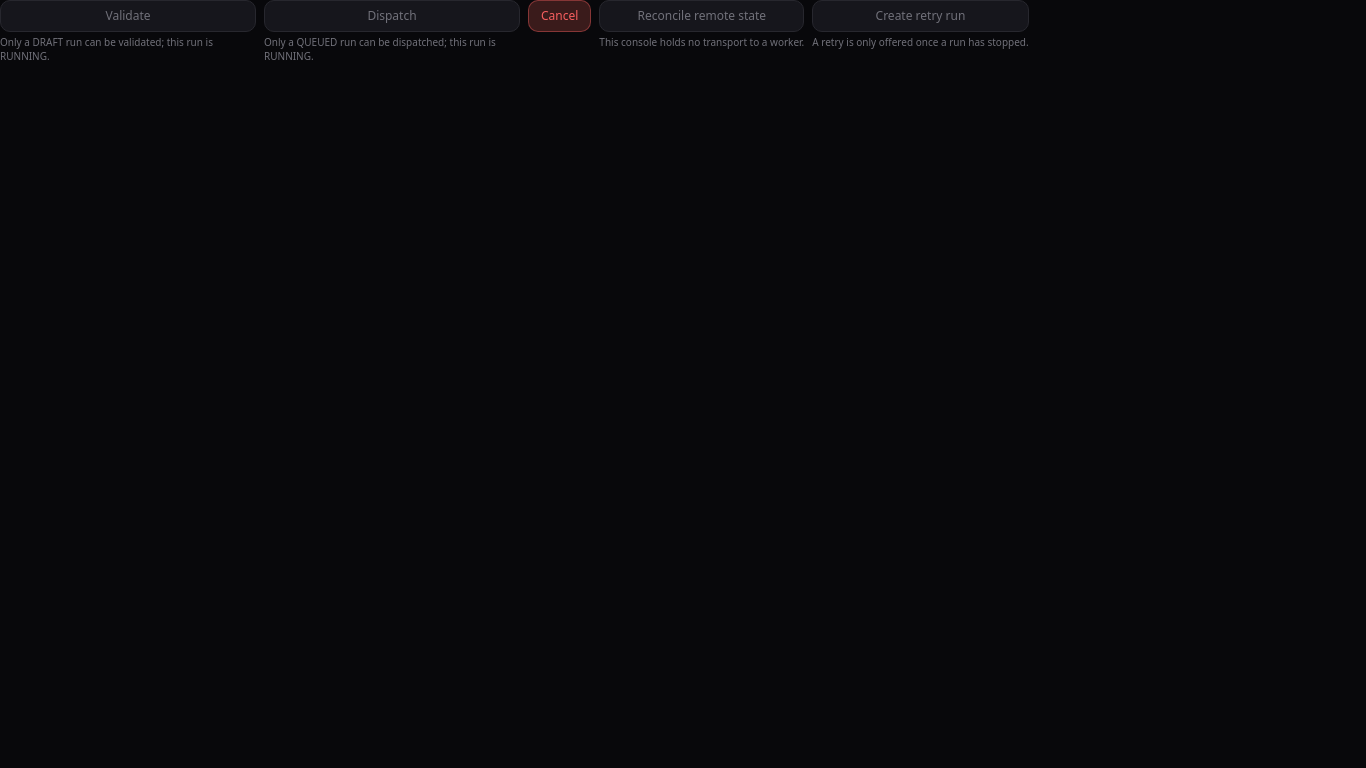
Test: run actions › reports a cancellation that was recorded but not performed
The width and height of the screenshot is (1366, 768).
Click the button "Cancel".
click(560, 16)  # box [528,0,591,32]
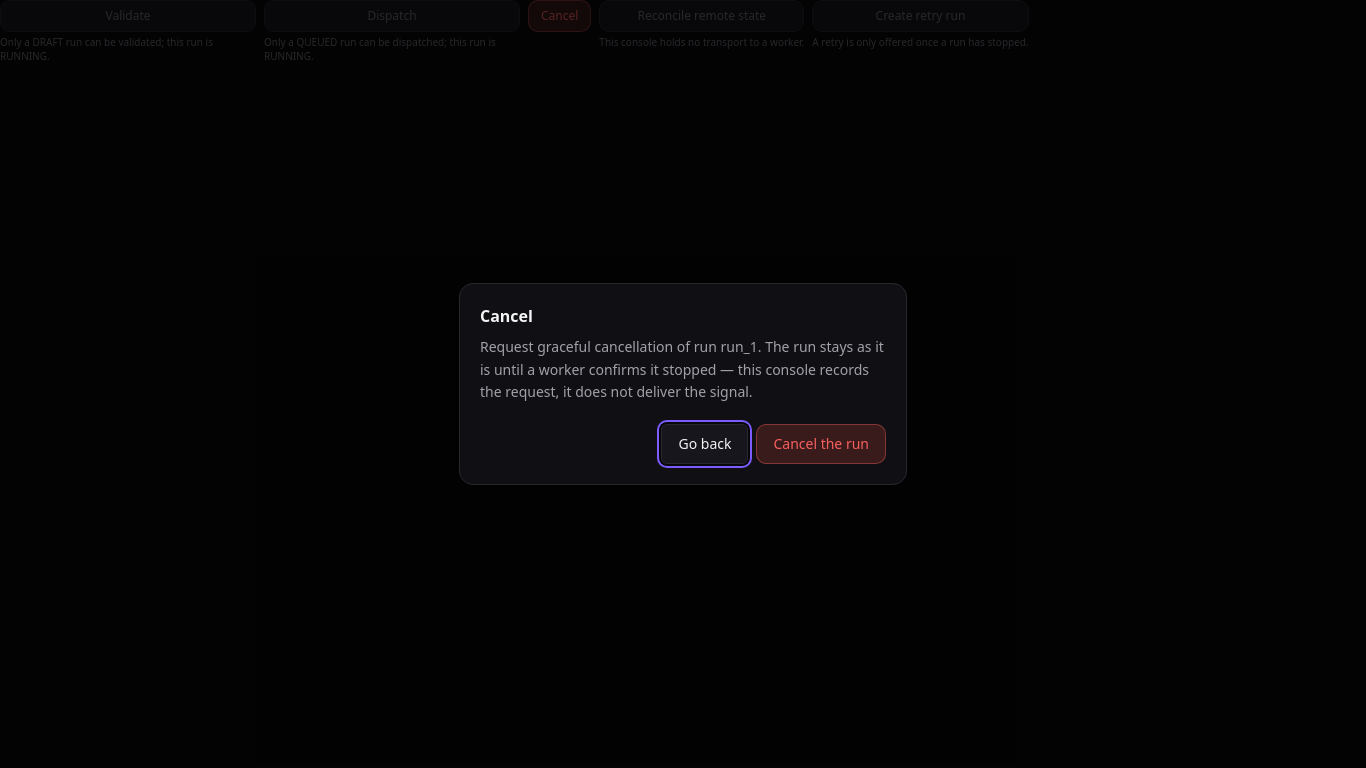
Click the button "Cancel the run".
click(821, 444)  # box [756,424,886,464]
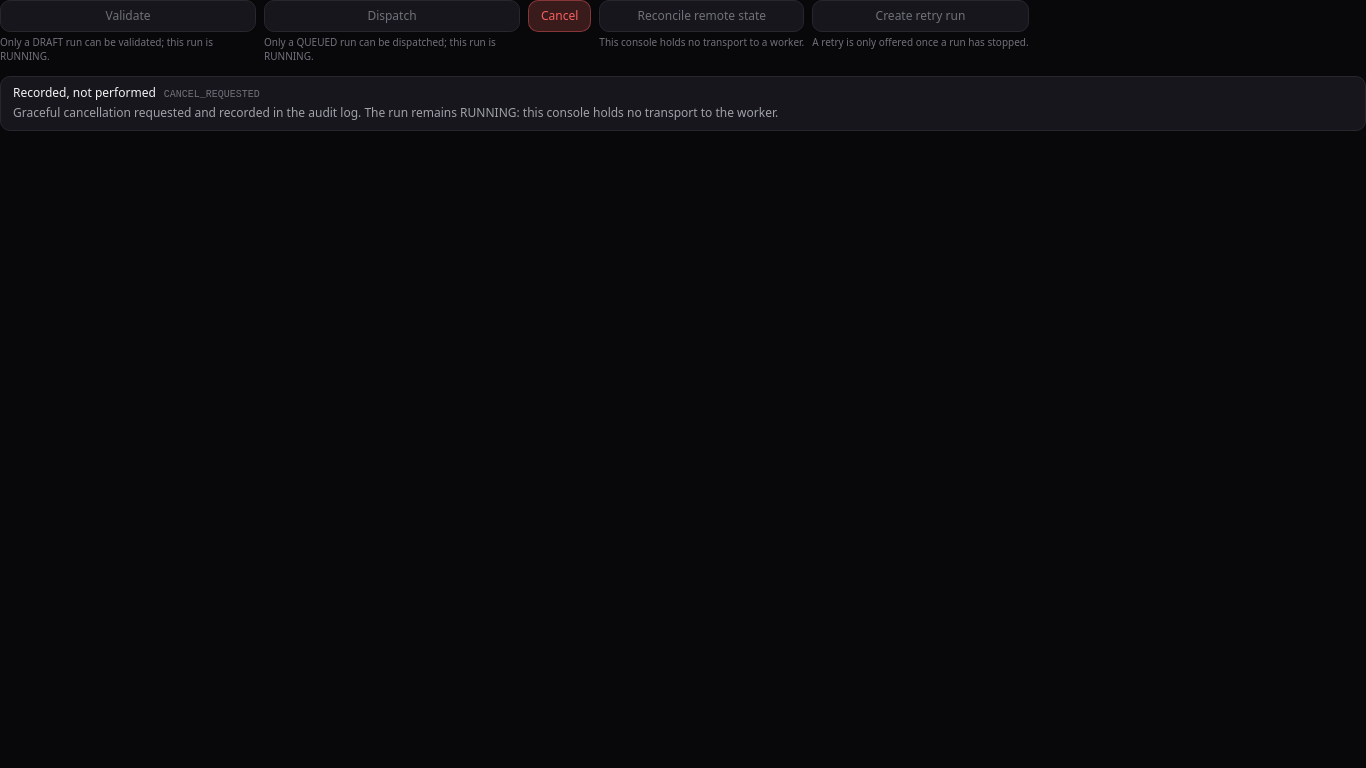
Now the text "Recorded, not performed" is shown, box [13,84,156,100]
Now the text "remains RUNNING" is shown, box [13,104,778,121]
